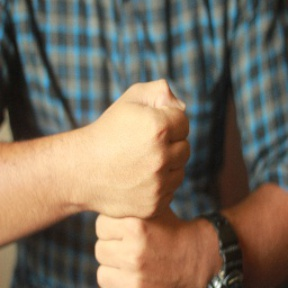G: (85, 68, 195, 288)
